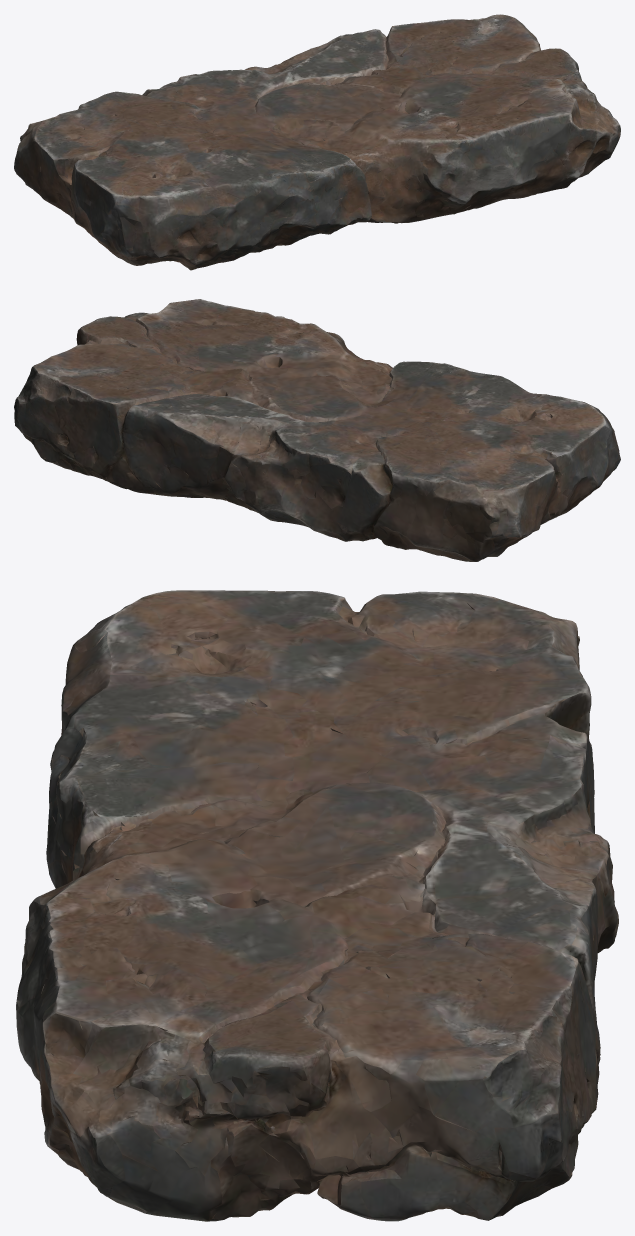
Rendered from et_rock3.glb.
The picture shows the model from 3 angles, top to bottom: view 1: azimuth 30°, elevation 25°; view 2: azimuth 150°, elevation 25°; view 3: azimuth 270°, elevation 25°; orthographic projection. The views are drawn at different scales.
Bounding box in the file's own units: 1.9 × 0.3096 × 0.9825.
1 material, 1 textured.
